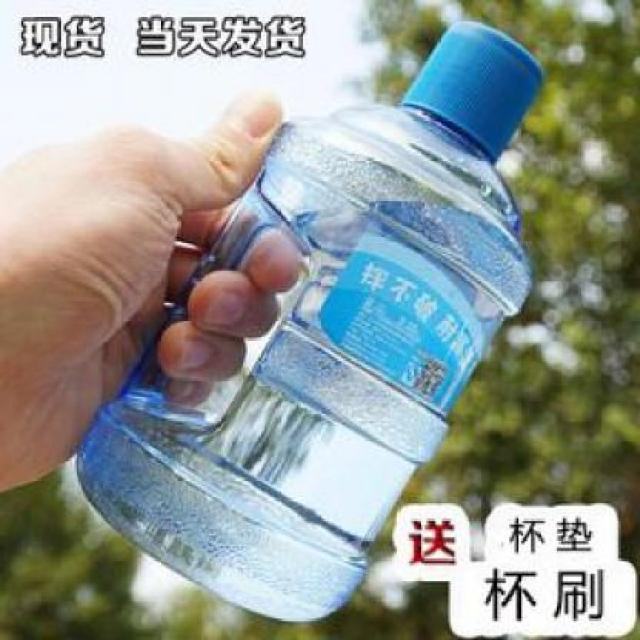coolerbottle: (71, 20, 545, 638)
